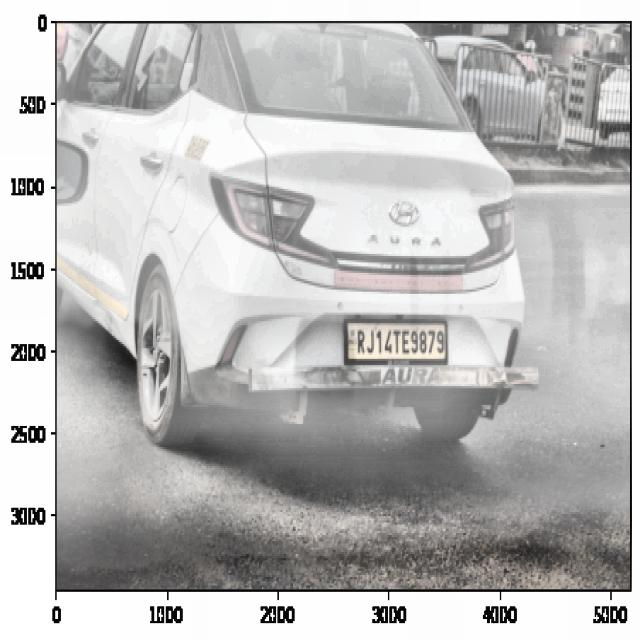license_plate: (352, 321, 448, 363)
